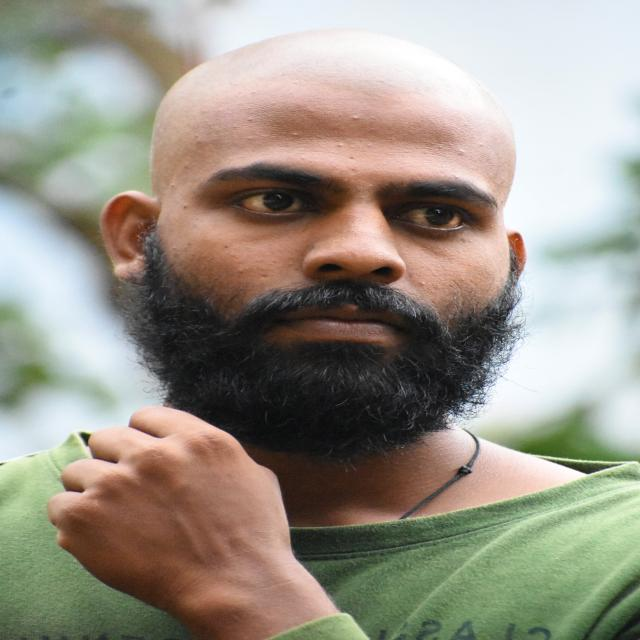adult: (0, 31, 625, 628)
